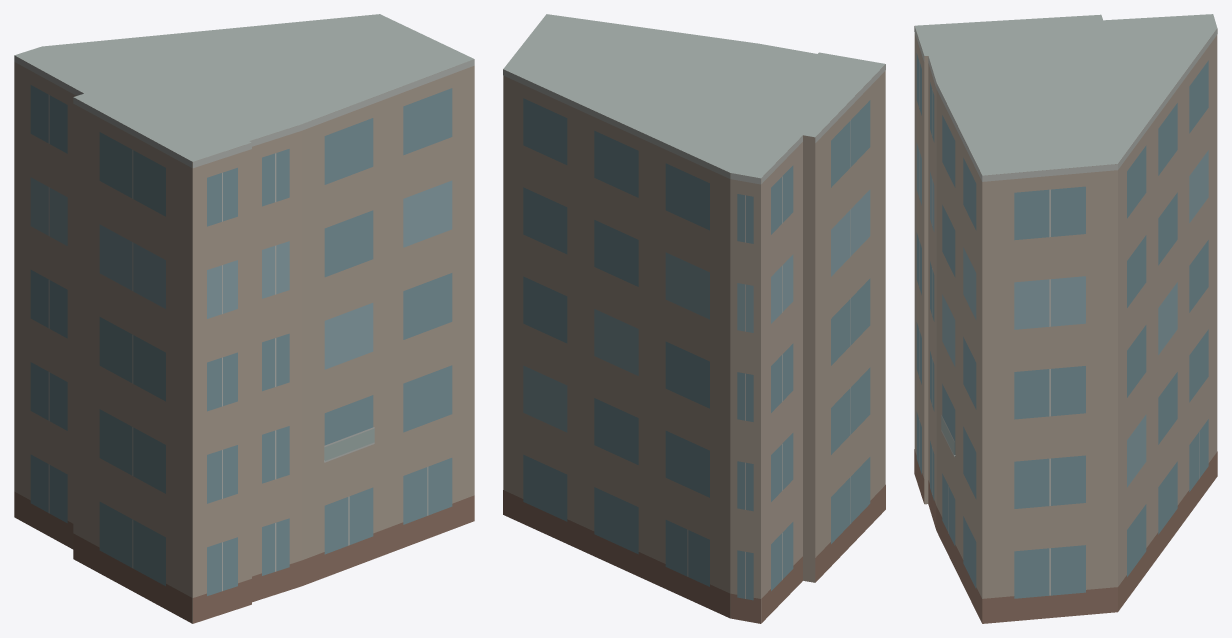
Rendered from survey-upis-32721080.glb.
3 views of the same model, side by side, from view 1: azimuth 30°, elevation 25°; view 2: azimuth 150°, elevation 25°; view 3: azimuth 270°, elevation 25° (orthographic). The views are drawn at different scales.
Visible parts, largest first — view 1: survey-upis-32721080.tmp; view 2: survey-upis-32721080.tmp; view 3: survey-upis-32721080.tmp.
Part boxes in pixels (left/top/right/bottom): survey-upis-32721080.tmp: left=14, top=14, right=474, bottom=623; survey-upis-32721080.tmp: left=503, top=14, right=885, bottom=623; survey-upis-32721080.tmp: left=914, top=14, right=1217, bottom=623.
Bounding box in the file's own units: 13.5 × 17.45 × 10.7.
